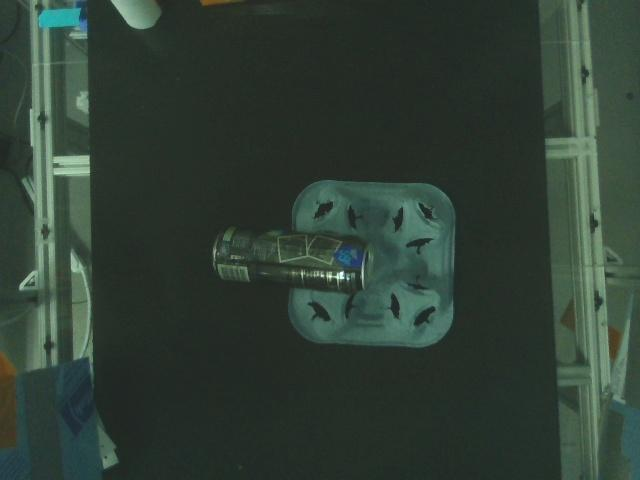cardboard: (284, 177, 461, 353), (105, 0, 165, 33), (195, 0, 248, 11)
metal: (209, 221, 377, 297)
